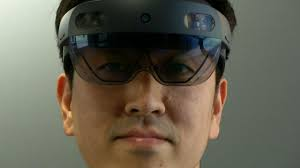hololens: (53, 1, 231, 86)
